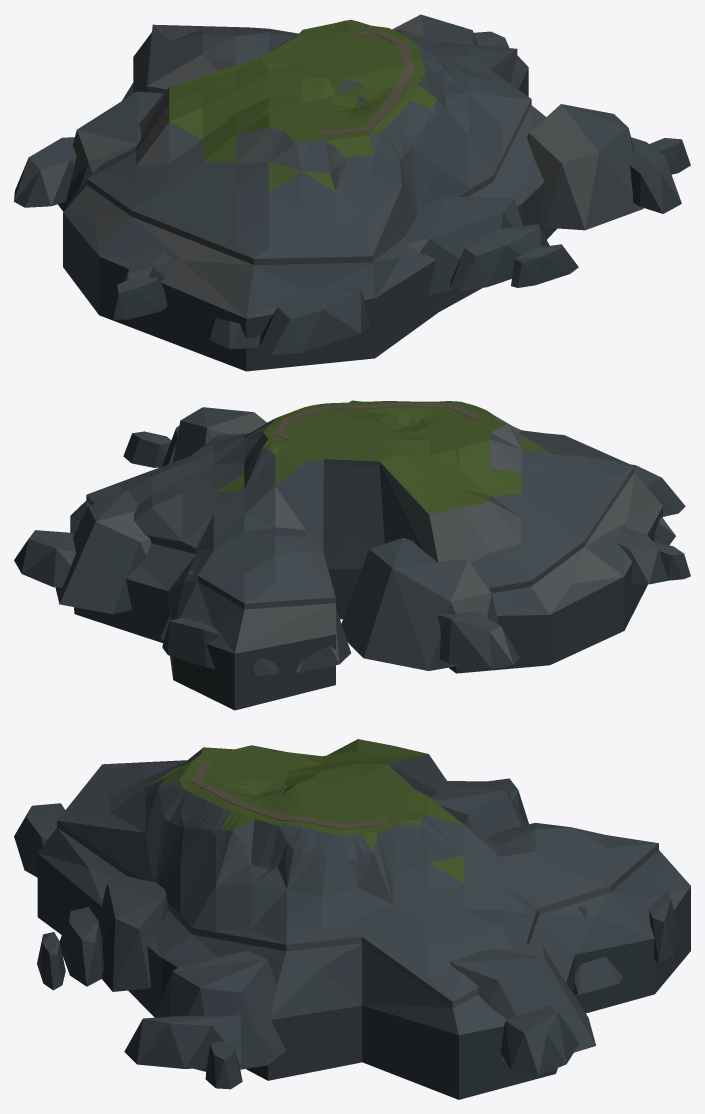
The model's file is island_c.glb.
3 views of the same model, one above another, from view 1: azimuth 30°, elevation 25°; view 2: azimuth 150°, elevation 25°; view 3: azimuth 270°, elevation 25° (orthographic). The views are drawn at different scales.
Parts seen in each view (by area): view 1: island_c_Coast blue grey bedrock, island_c_Coast short olive grass, island_c_Coast weathered stone footpath; view 2: island_c_Coast blue grey bedrock, island_c_Coast short olive grass, island_c_Coast weathered stone footpath; view 3: island_c_Coast blue grey bedrock, island_c_Coast short olive grass, island_c_Coast weathered stone footpath.
Part boxes in pixels (x1,y1,x2,y2): island_c_Coast blue grey bedrock: (14, 14, 690, 371); island_c_Coast short olive grass: (87, 19, 531, 265); island_c_Coast weathered stone footpath: (320, 29, 414, 135); island_c_Coast blue grey bedrock: (14, 407, 690, 710); island_c_Coast short olive grass: (86, 400, 634, 609); island_c_Coast weathered stone footpath: (272, 402, 481, 440); island_c_Coast blue grey bedrock: (14, 778, 690, 1099); island_c_Coast short olive grass: (57, 739, 658, 1008); island_c_Coast weathered stone footpath: (190, 761, 390, 828).
Bounding box in the file's own units: 64.61 × 17.59 × 60.
